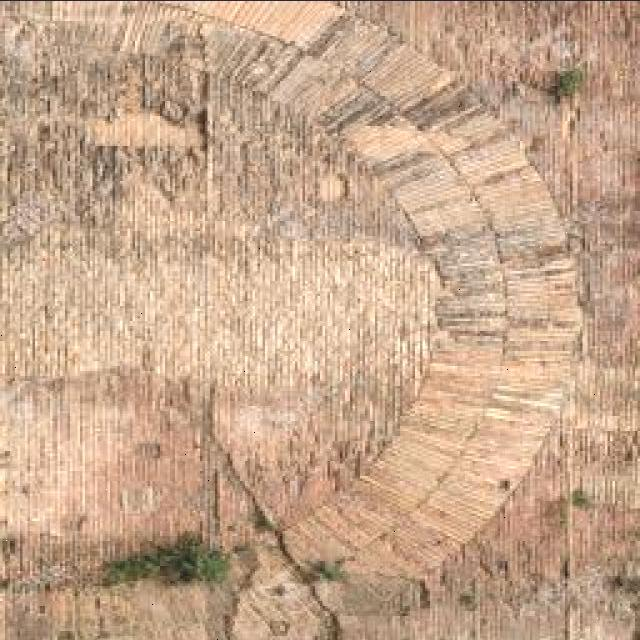vegetation: (98, 529, 233, 586), (553, 63, 585, 101)
